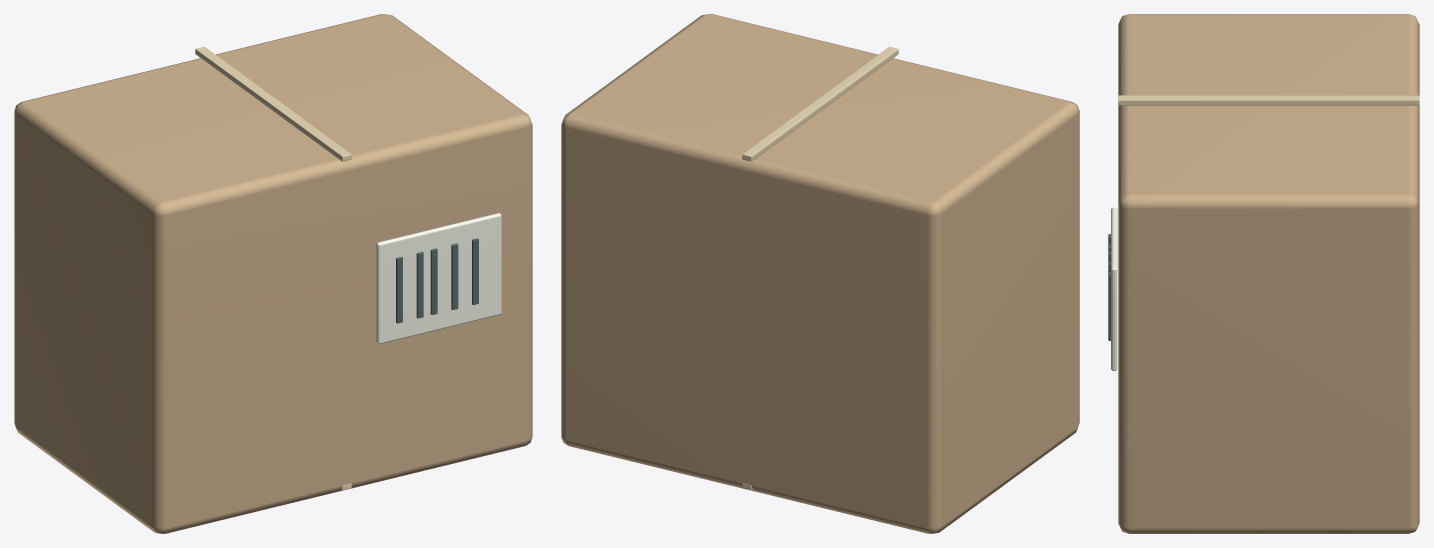
The model's file is carton.glb.
The picture shows the model from 3 angles, left to right: view 1: azimuth 30°, elevation 25°; view 2: azimuth 150°, elevation 25°; view 3: azimuth 270°, elevation 25°; orthographic projection. The views are drawn at different scales.
Parts seen in each view (by area): view 1: cardboard, label, flap-seam; view 2: cardboard, flap-seam; view 3: cardboard, flap-seam, label.
Part boxes in pixels (x1,y1,x2,y2): cardboard: (14,14,532,533); label: (376,213,501,343); flap-seam: (195,46,351,161); cardboard: (561,14,1079,533); flap-seam: (742,46,898,161); cardboard: (1118,14,1419,533); flap-seam: (1118,95,1419,105); label: (1111,207,1117,370).
Bounding box in the file's own units: 0.55 × 0.469 × 0.382.
